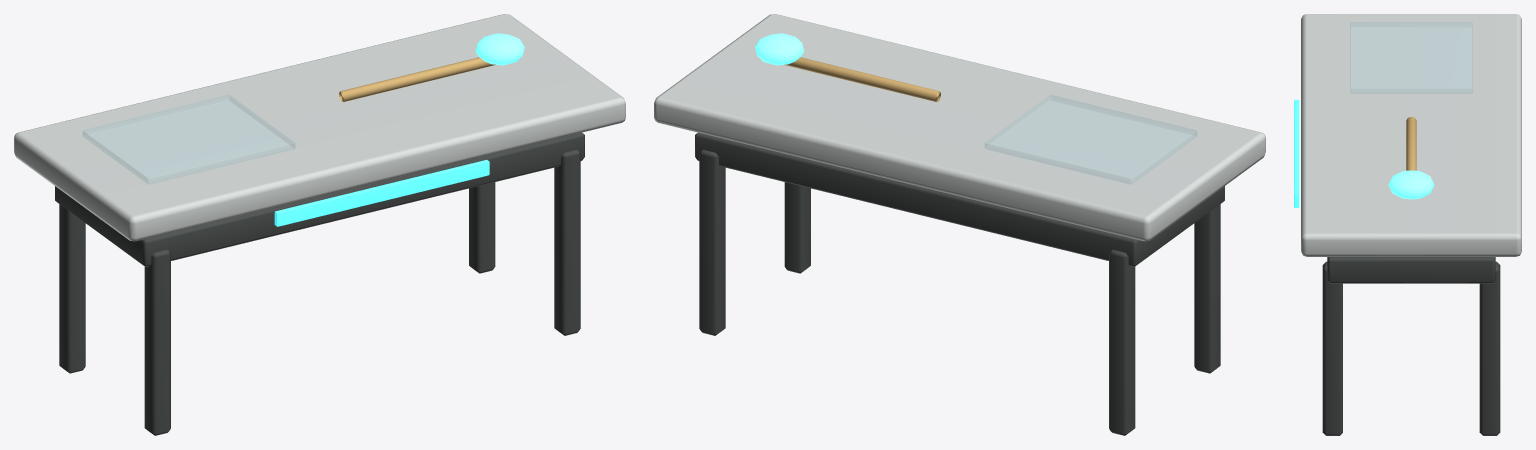
File: hp_furniture_lab_table_v1.glb
The picture shows the model from 3 angles, left to right: view 1: azimuth 30°, elevation 25°; view 2: azimuth 150°, elevation 25°; view 3: azimuth 270°, elevation 25°; orthographic projection. The views are drawn at different scales.
Visible parts, largest first — view 1: sterile_lab_tabletop, left_inset_glass_tray, front_control_strip, cyan_sample_core; view 2: sterile_lab_tabletop, left_inset_glass_tray, cyan_sample_core; view 3: sterile_lab_tabletop, left_inset_glass_tray, cyan_sample_core, front_control_strip.
Part boxes in pixels (x1,y1,x2,y2): sterile_lab_tabletop: (14, 14, 625, 435); left_inset_glass_tray: (83, 95, 294, 184); front_control_strip: (274, 160, 489, 226); cyan_sample_core: (475, 33, 524, 65); sterile_lab_tabletop: (654, 14, 1265, 435); left_inset_glass_tray: (985, 95, 1196, 184); cyan_sample_core: (755, 33, 804, 65); sterile_lab_tabletop: (1301, 14, 1521, 435); left_inset_glass_tray: (1350, 22, 1472, 93); cyan_sample_core: (1388, 170, 1434, 199); front_control_strip: (1294, 99, 1299, 207).
Bounding box in the file's own units: 1.82 × 0.944 × 0.7839.
4 materials, 4 textured.
